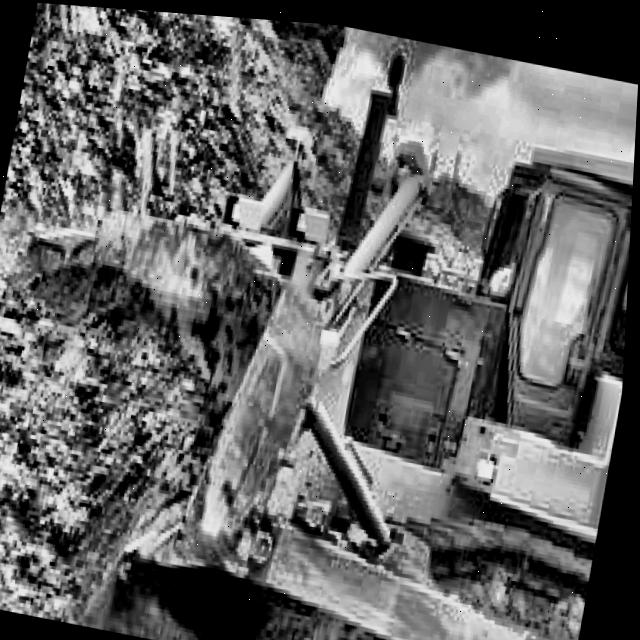buldozerpayloadergrader: (0, 1, 640, 640)
